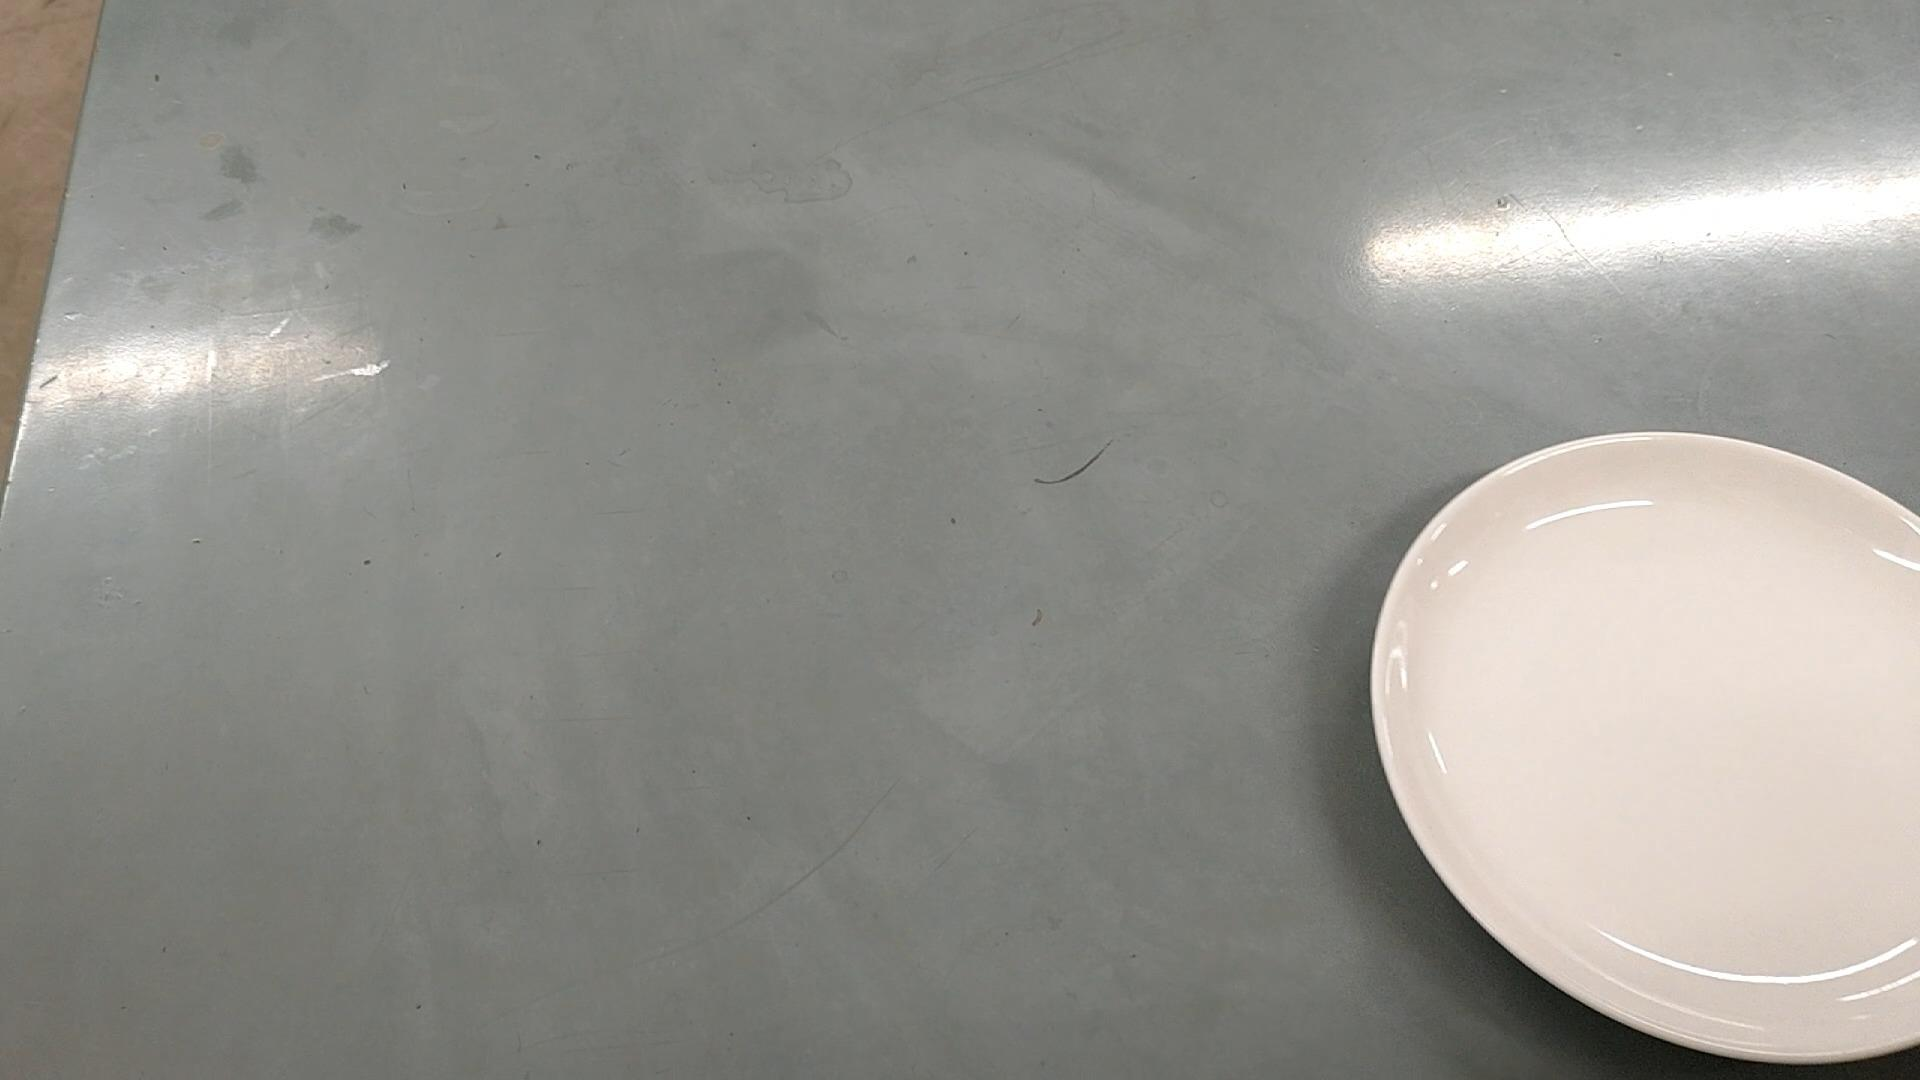plate: (1366, 421, 1920, 1080)
